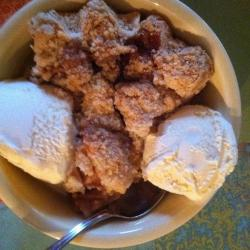icecream: (138, 101, 241, 208), (1, 80, 78, 186)
